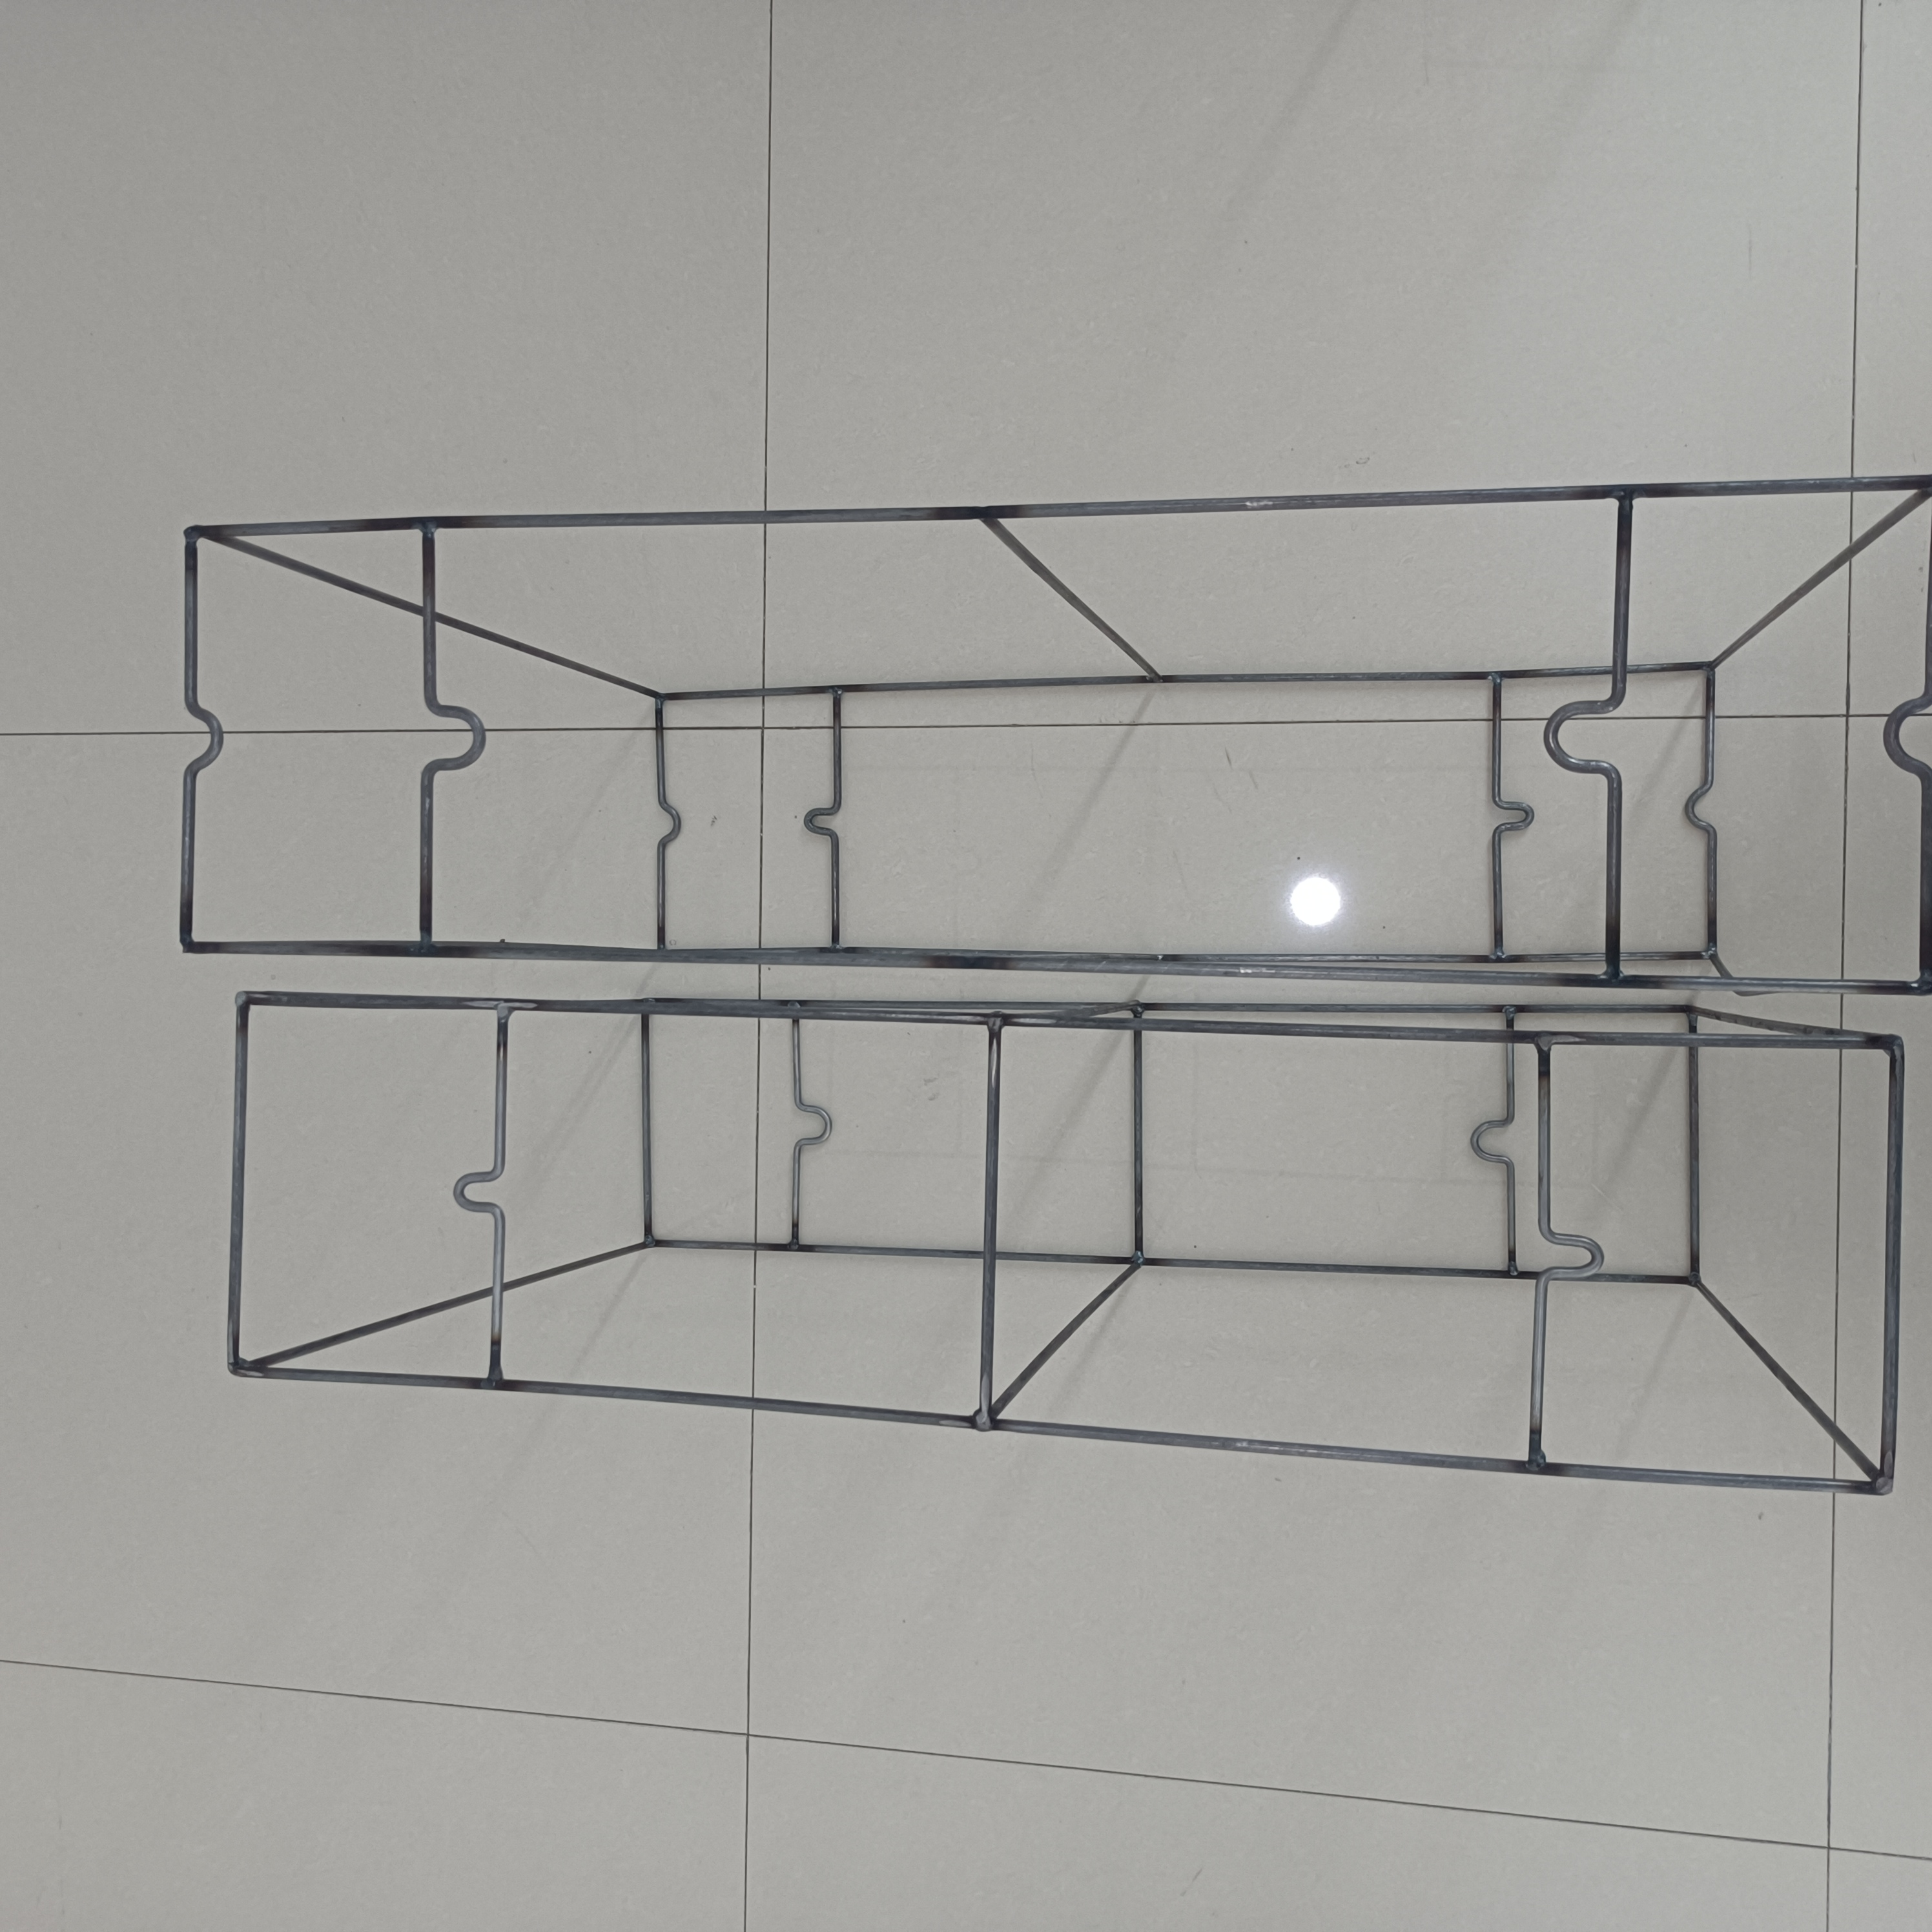curvedhole: (393, 671, 502, 821), (1537, 665, 1642, 810), (1523, 1201, 1622, 1315), (1863, 653, 1932, 805), (150, 688, 242, 789), (787, 759, 870, 869), (614, 773, 706, 869), (446, 1141, 522, 1256), (1477, 766, 1553, 881), (1449, 1081, 1523, 1198), (1663, 759, 1743, 849), (770, 1081, 828, 1182)
